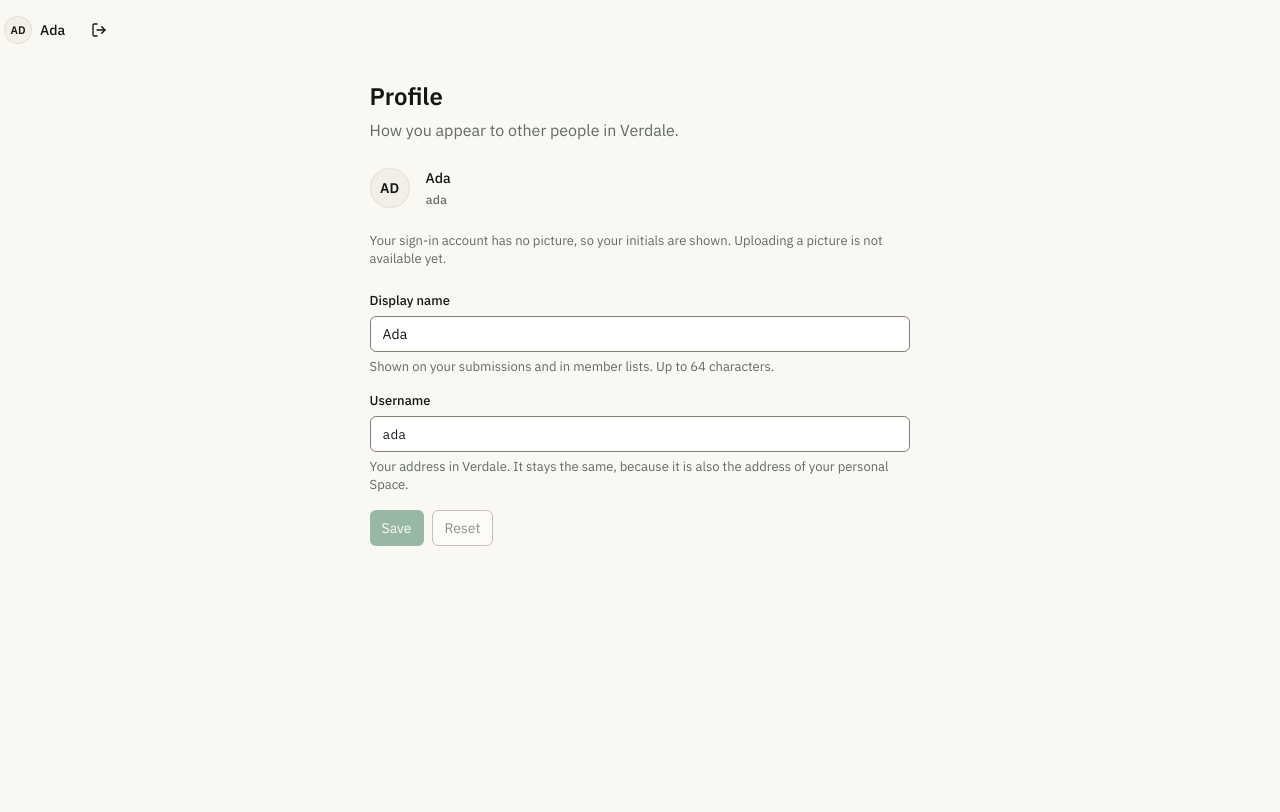
Test: profile settings (GRD-69) › saves the new name, refreshes the account and the header shows it without a new login
Step 1. Replace the text in the field labelled "Display name" with "  Ada Lovelace  " → [640, 334], box [370, 316, 910, 352]
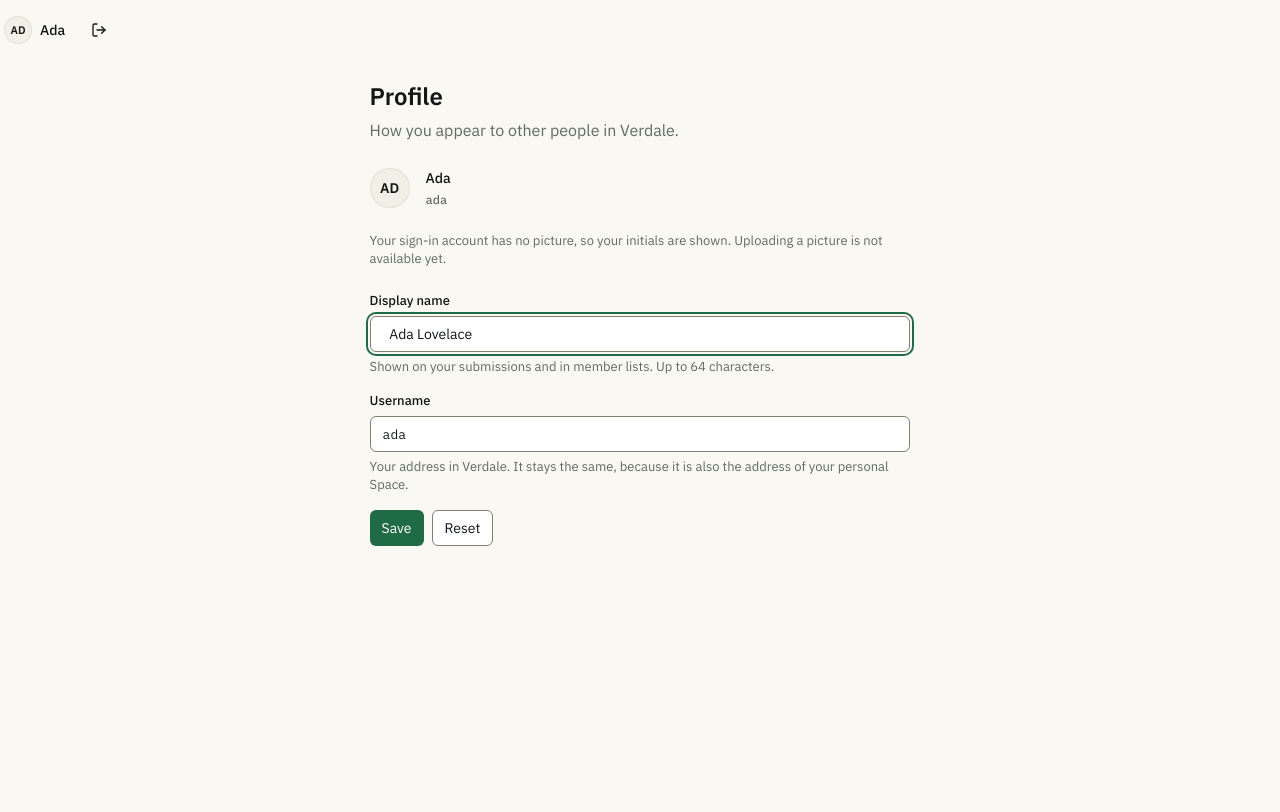
Step 2. Click the button "Save" → [397, 528], box [370, 510, 424, 546]
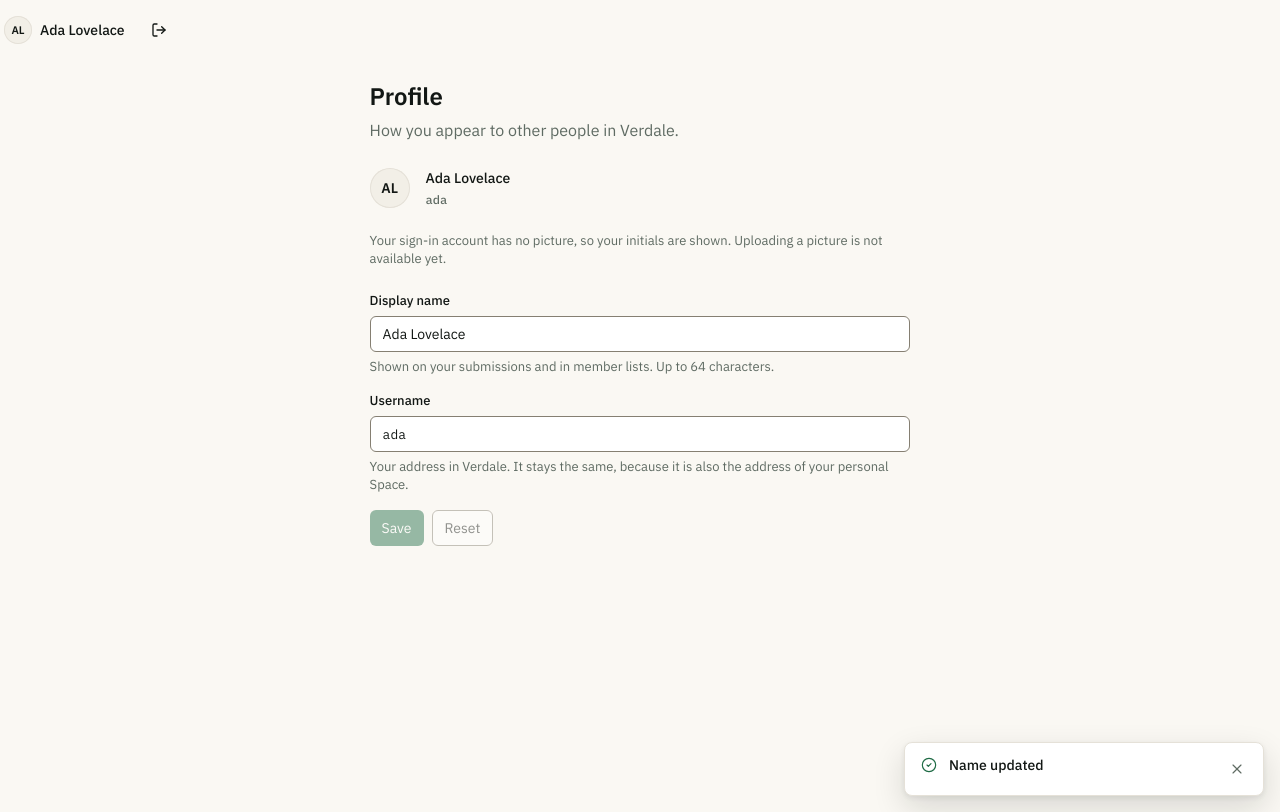
Check: the link with aria-label "Profile settings for Ada Lovelace" is shown, box [0, 12, 133, 48]
Check: the text "Name updated" is shown, box [949, 756, 1044, 774]
